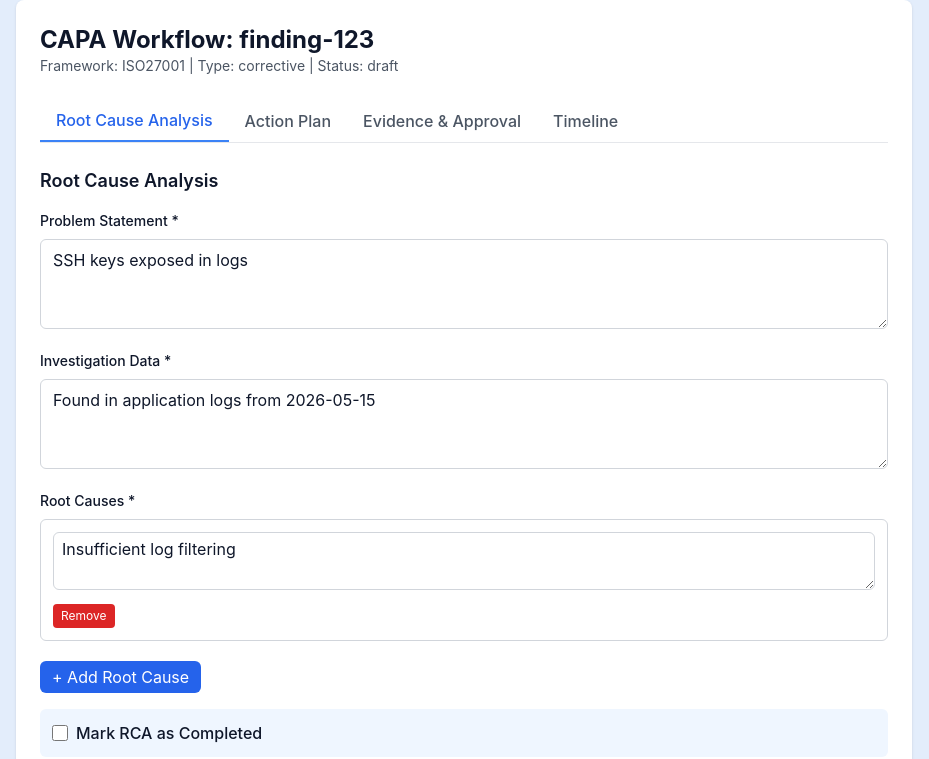
Test: CapaDetailPanel › Evidence File Upload › should display uploaded evidence files with delete button
Click the button "Evidence & Approval" at [442, 121], box [347,100,537,142]
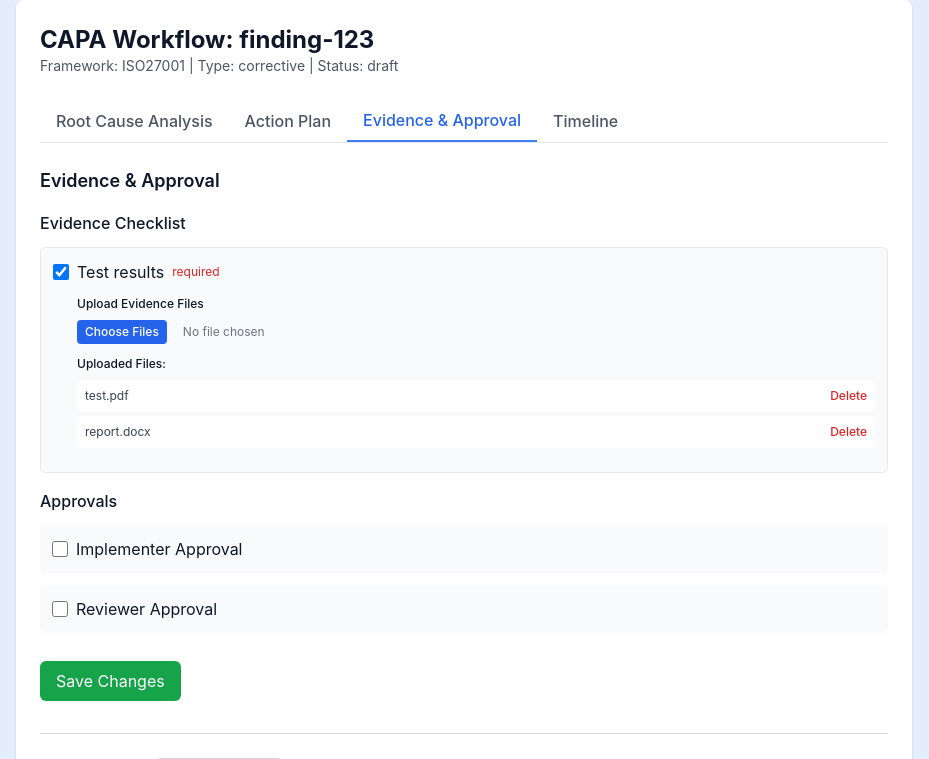
Expected: the text "Uploaded Files:" is shown, [77,356,166,371]
Expected: the text "test.pdf" is shown, [85,388,129,404]
Expected: the text "report.docx" is shown, [85,424,151,440]
